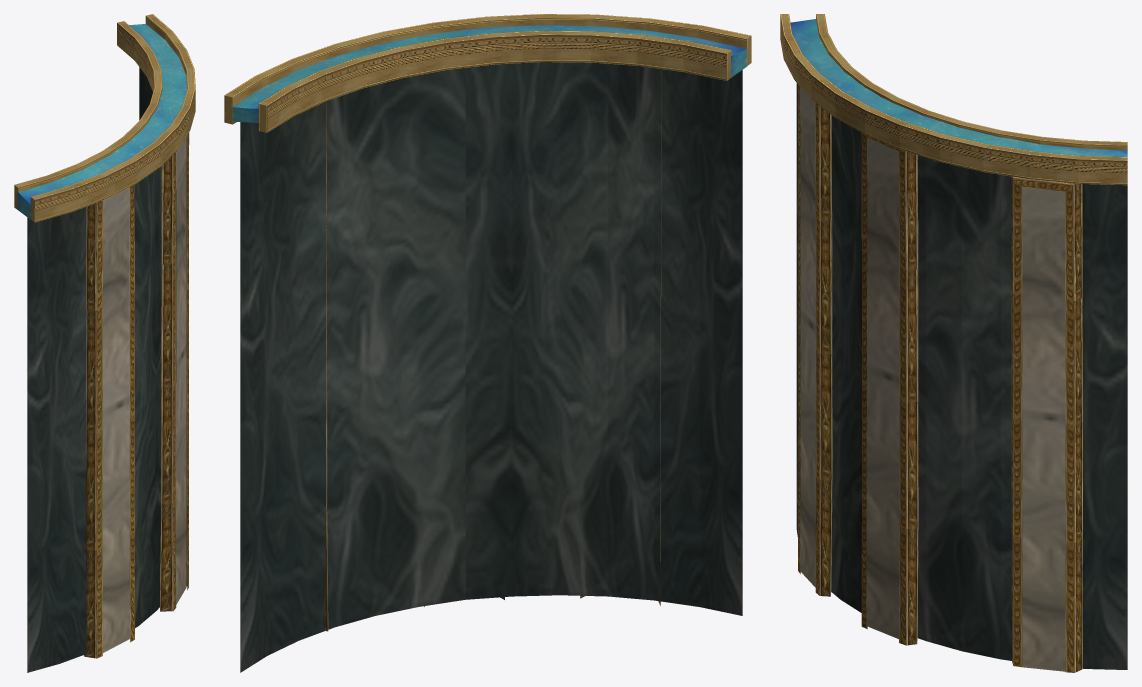
The model's file is S_Build_City207.FBX.
3 renders of one model, left to right at view 1: azimuth 30°, elevation 25°; view 2: azimuth 150°, elevation 25°; view 3: azimuth 270°, elevation 25°, orthographic. The views are drawn at different scales.
Visible parts, largest first — view 1: S_Build_City207; view 2: S_Build_City207; view 3: S_Build_City207.
Part boxes in pixels (left/top/right/bottom): S_Build_City207: left=14, top=14, right=195, bottom=672; S_Build_City207: left=224, top=14, right=751, bottom=672; S_Build_City207: left=780, top=14, right=1127, bottom=672.
Bounding box in the file's own units: 1615 × 2664 × 1615.
